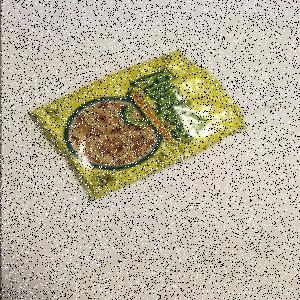Trash: (28, 49, 248, 203)
